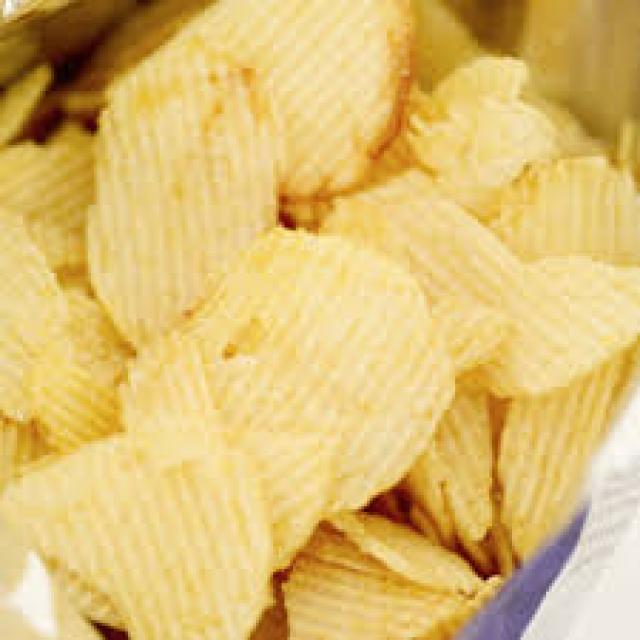Chips packaged: (54, 6, 572, 620)
